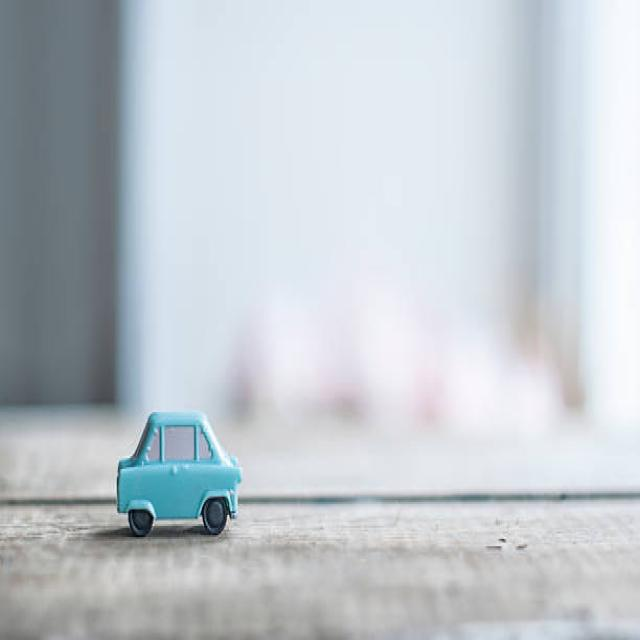Car: (116, 408, 242, 537)
